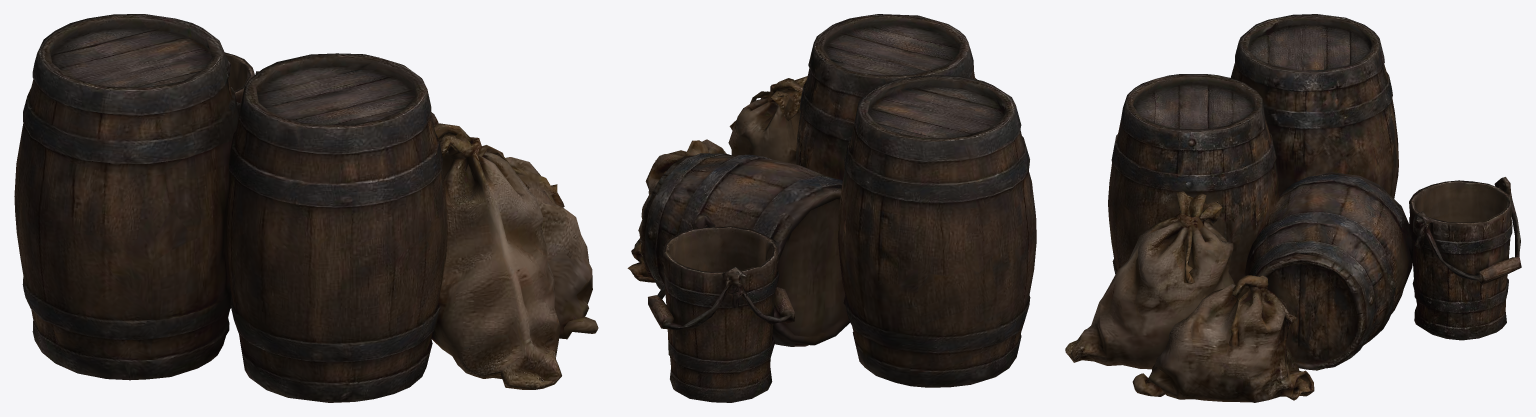
The model's file is barrels.glb.
The picture shows the model from 3 angles, left to right: view 1: azimuth 30°, elevation 25°; view 2: azimuth 150°, elevation 25°; view 3: azimuth 270°, elevation 25°; orthographic projection. The views are drawn at different scales.
Parts seen in each view (by area): view 1: barrels; view 2: barrels; view 3: barrels.
Boxes of the visible parts, <box> form: barrels: <box>14,14,598,402</box>; barrels: <box>627,14,1036,402</box>; barrels: <box>1065,14,1521,402</box>.
Size of the model in its own units: 2 by 1.13 by 2.11.
1 material, 1 textured.
